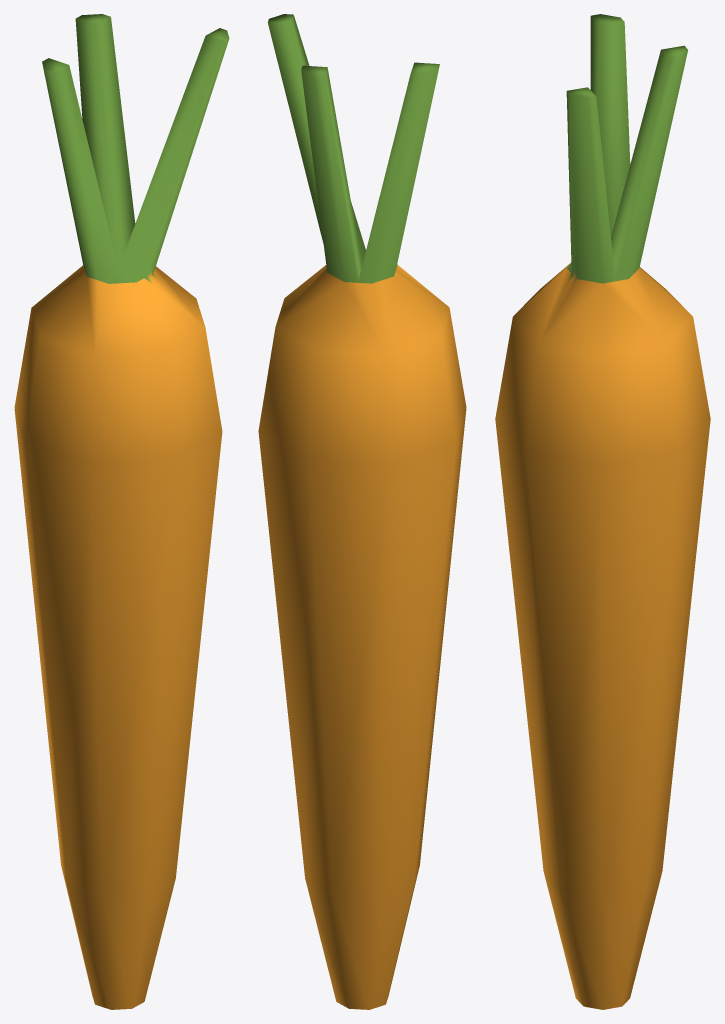
The model's file is Carrot.glb.
3 renders of one model, left to right at view 1: azimuth 30°, elevation 25°; view 2: azimuth 150°, elevation 25°; view 3: azimuth 270°, elevation 25°, orthographic.
Parts seen in each view (by area): view 1: Carrot; view 2: Carrot; view 3: Carrot.
Boxes of the visible parts, x1=… form: Carrot: x1=14, y1=14, x2=229, y2=1009; Carrot: x1=258, y1=14, x2=466, y2=1009; Carrot: x1=495, y1=14, x2=710, y2=1009.
Bounding box in the file's own units: 1.18 × 5.52 × 1.13.
Materials: 1 (1 with a texture image).
